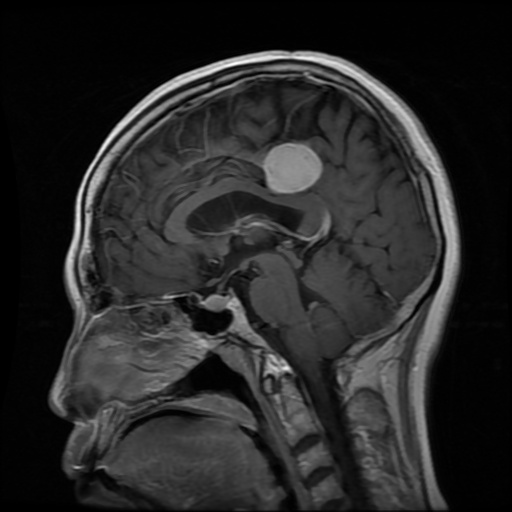meningioma: (264, 142, 322, 193)
